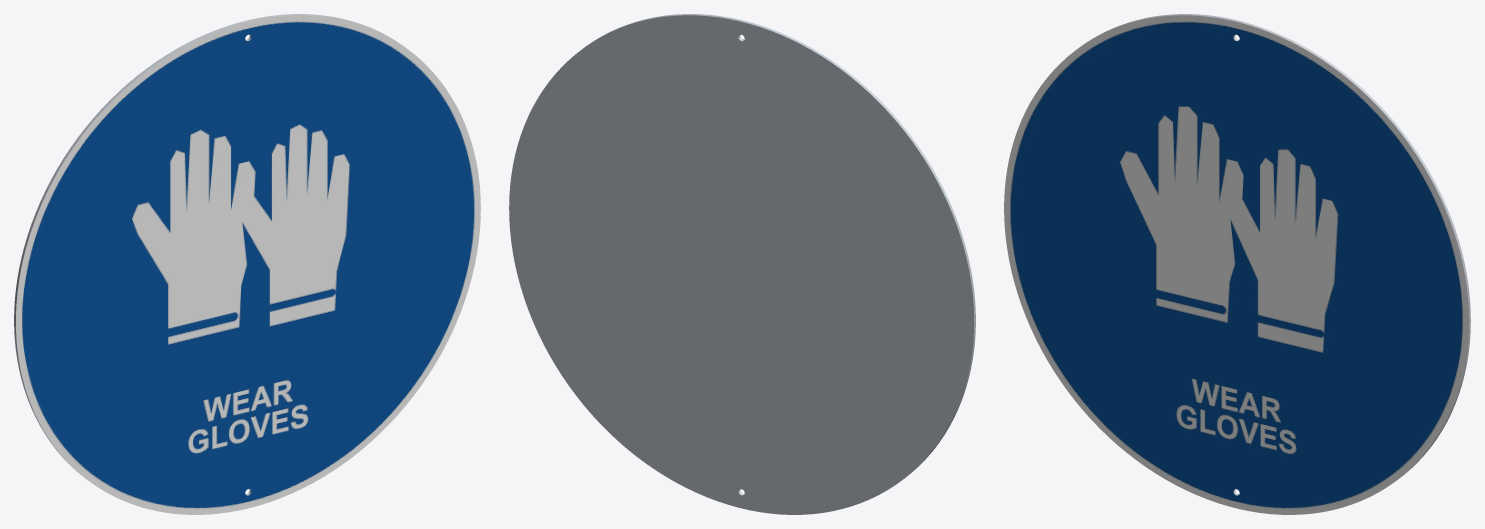
The model's file is crime-gloves-sign.glb.
The picture shows the model from 3 angles, left to right: view 1: azimuth 30°, elevation 25°; view 2: azimuth 150°, elevation 25°; view 3: azimuth 330°, elevation 25°; orthographic projection.
Visible parts, largest first — view 1: Aluminium plate with through mounting holes; view 2: Aluminium plate with through mounting holes; view 3: Aluminium plate with through mounting holes.
Part boxes in pixels (left/top/right/bottom): Aluminium plate with through mounting holes: left=14, top=14, right=480, bottom=514; Aluminium plate with through mounting holes: left=509, top=14, right=975, bottom=514; Aluminium plate with through mounting holes: left=1004, top=14, right=1470, bottom=514.
Size of the model in its own units: 0.2999 by 0.3 by 0.00201.
Materials: 2 (2 with a texture image).
